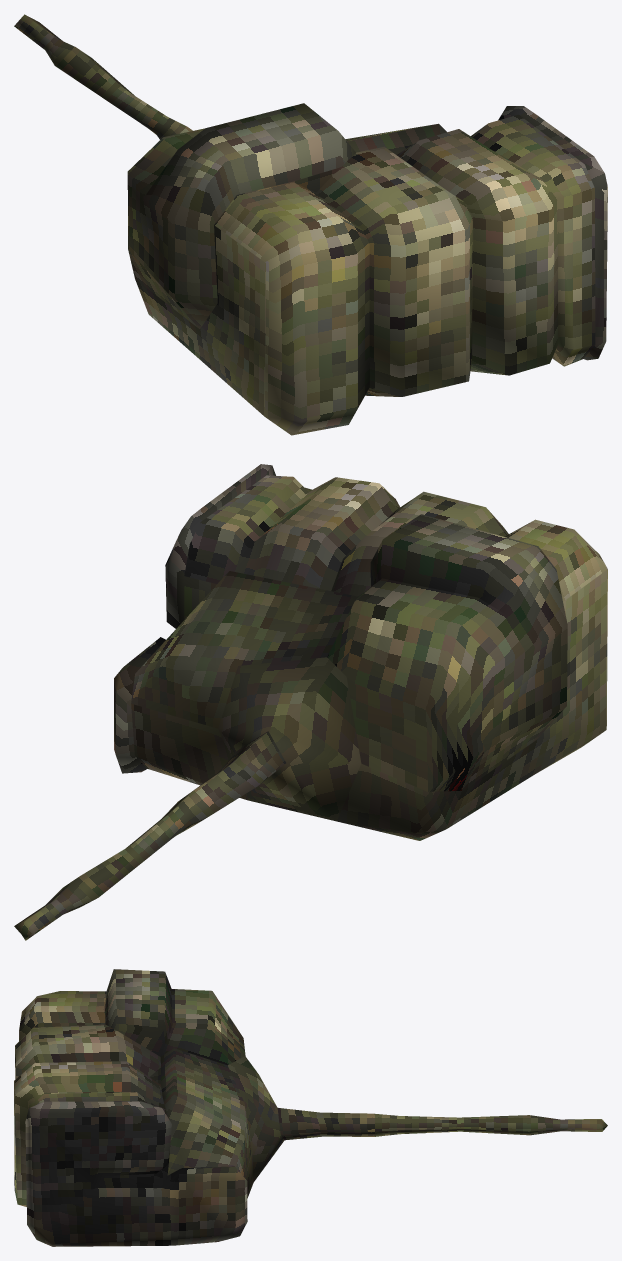
The picture shows the model from 3 angles, top to bottom: view 1: azimuth 30°, elevation 25°; view 2: azimuth 150°, elevation 25°; view 3: azimuth 270°, elevation 25°; orthographic projection. The views are drawn at different scales.
Parts seen in each view (by area): view 1: weapon/we258.pac; view 2: weapon/we258.pac; view 3: weapon/we258.pac.
Part boxes in pixels (x1,y1,x2,y2): weapon/we258.pac: (14,14,607,435); weapon/we258.pac: (14,464,607,940); weapon/we258.pac: (14,969,607,1246).
Bounding box in the file's own units: 92.9 × 60.39 × 187.
1 material, 1 textured.
